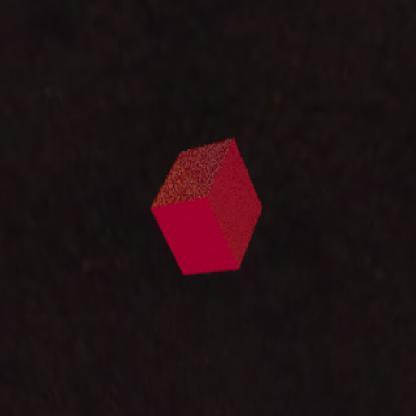cube: (150, 137, 262, 274)
